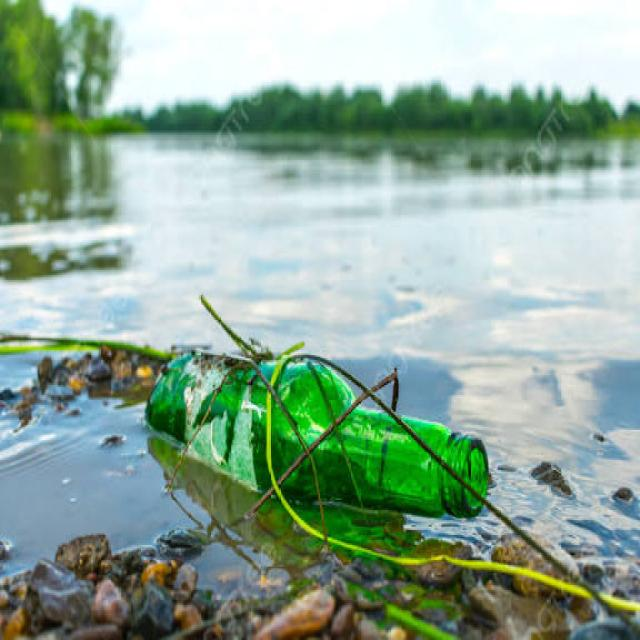glass: (133, 334, 532, 541)
